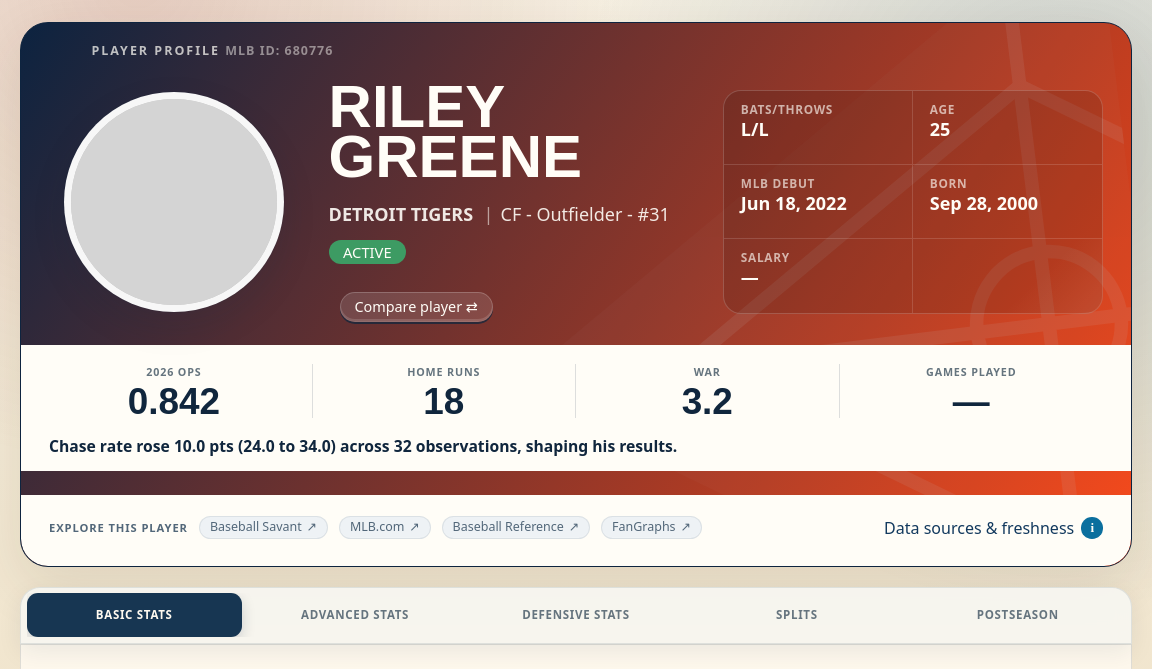
PlayerProfileView › loads and renders postseason stats in a tab immediately after Splits
Click the tab with test id "player-profile-tab-postseason" at x=1018, y=615, box [910,593,1125,637]
(page scrolled)
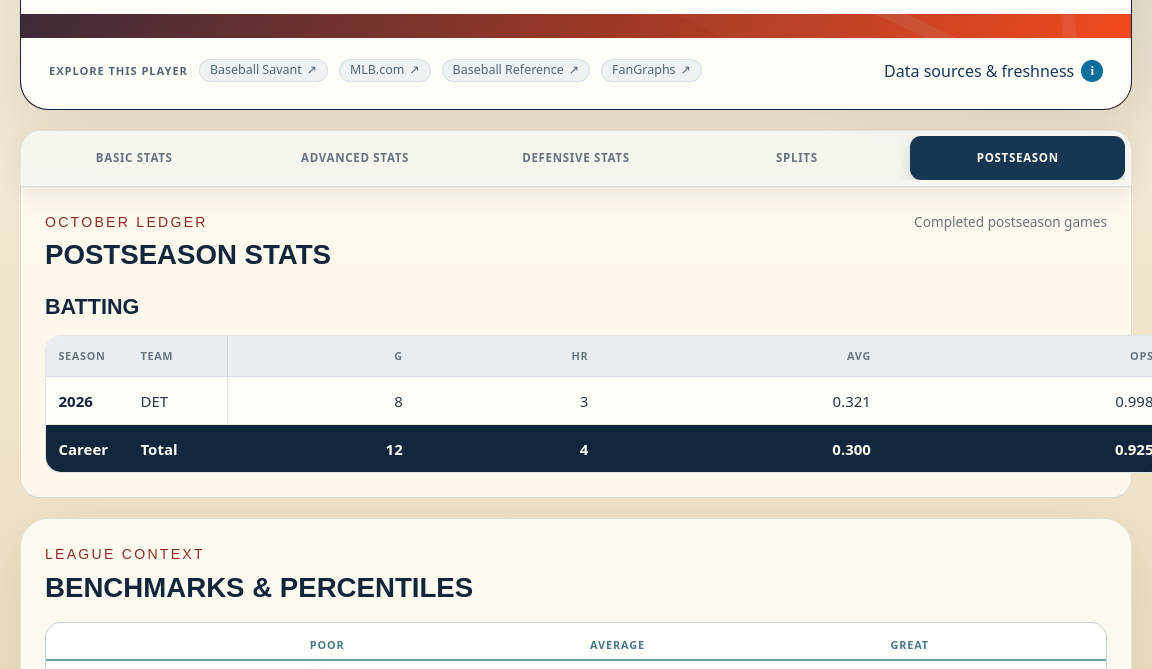
expect the panel with test id "postseason-stats-panel" shows "Postseason Stats": met, box [45,239,331,270]
expect the panel with test id "postseason-stats-panel" shows "2026": met, box [58,391,93,411]
expect the panel with test id "postseason-stats-panel" shows "DET": met, box [140,391,168,411]
